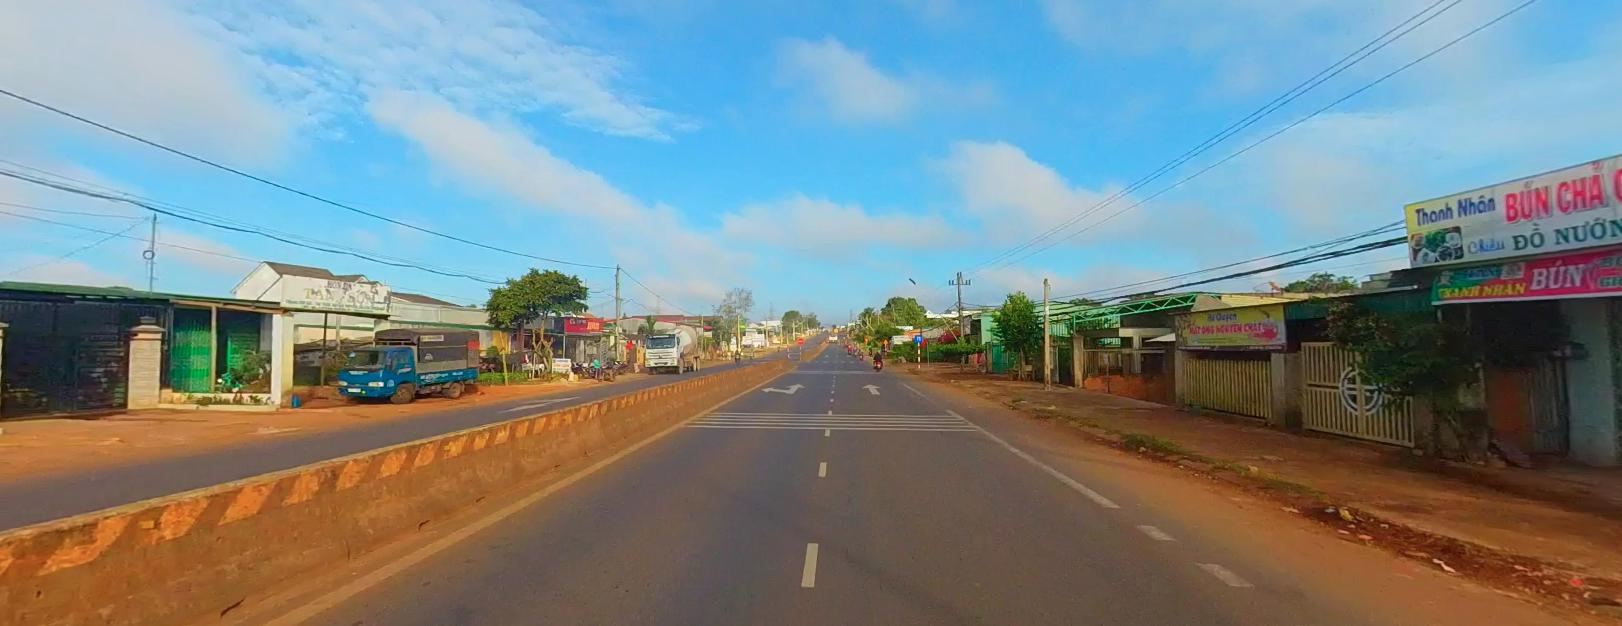Cam nguoc chieu: (795, 335, 803, 342)
Nguy hiem: (882, 336, 889, 342)
